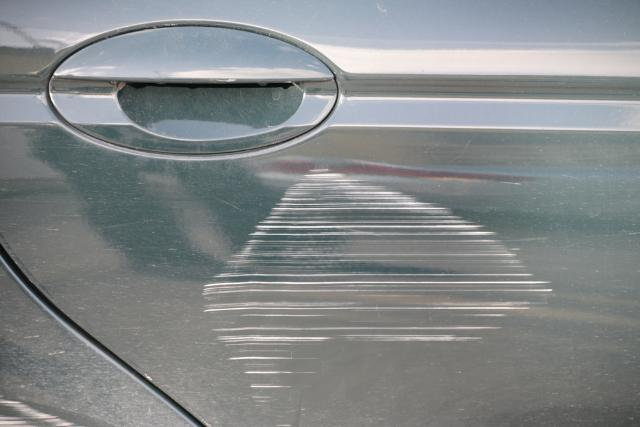rub: (198, 164, 556, 417)
scratch: (0, 396, 89, 427)
